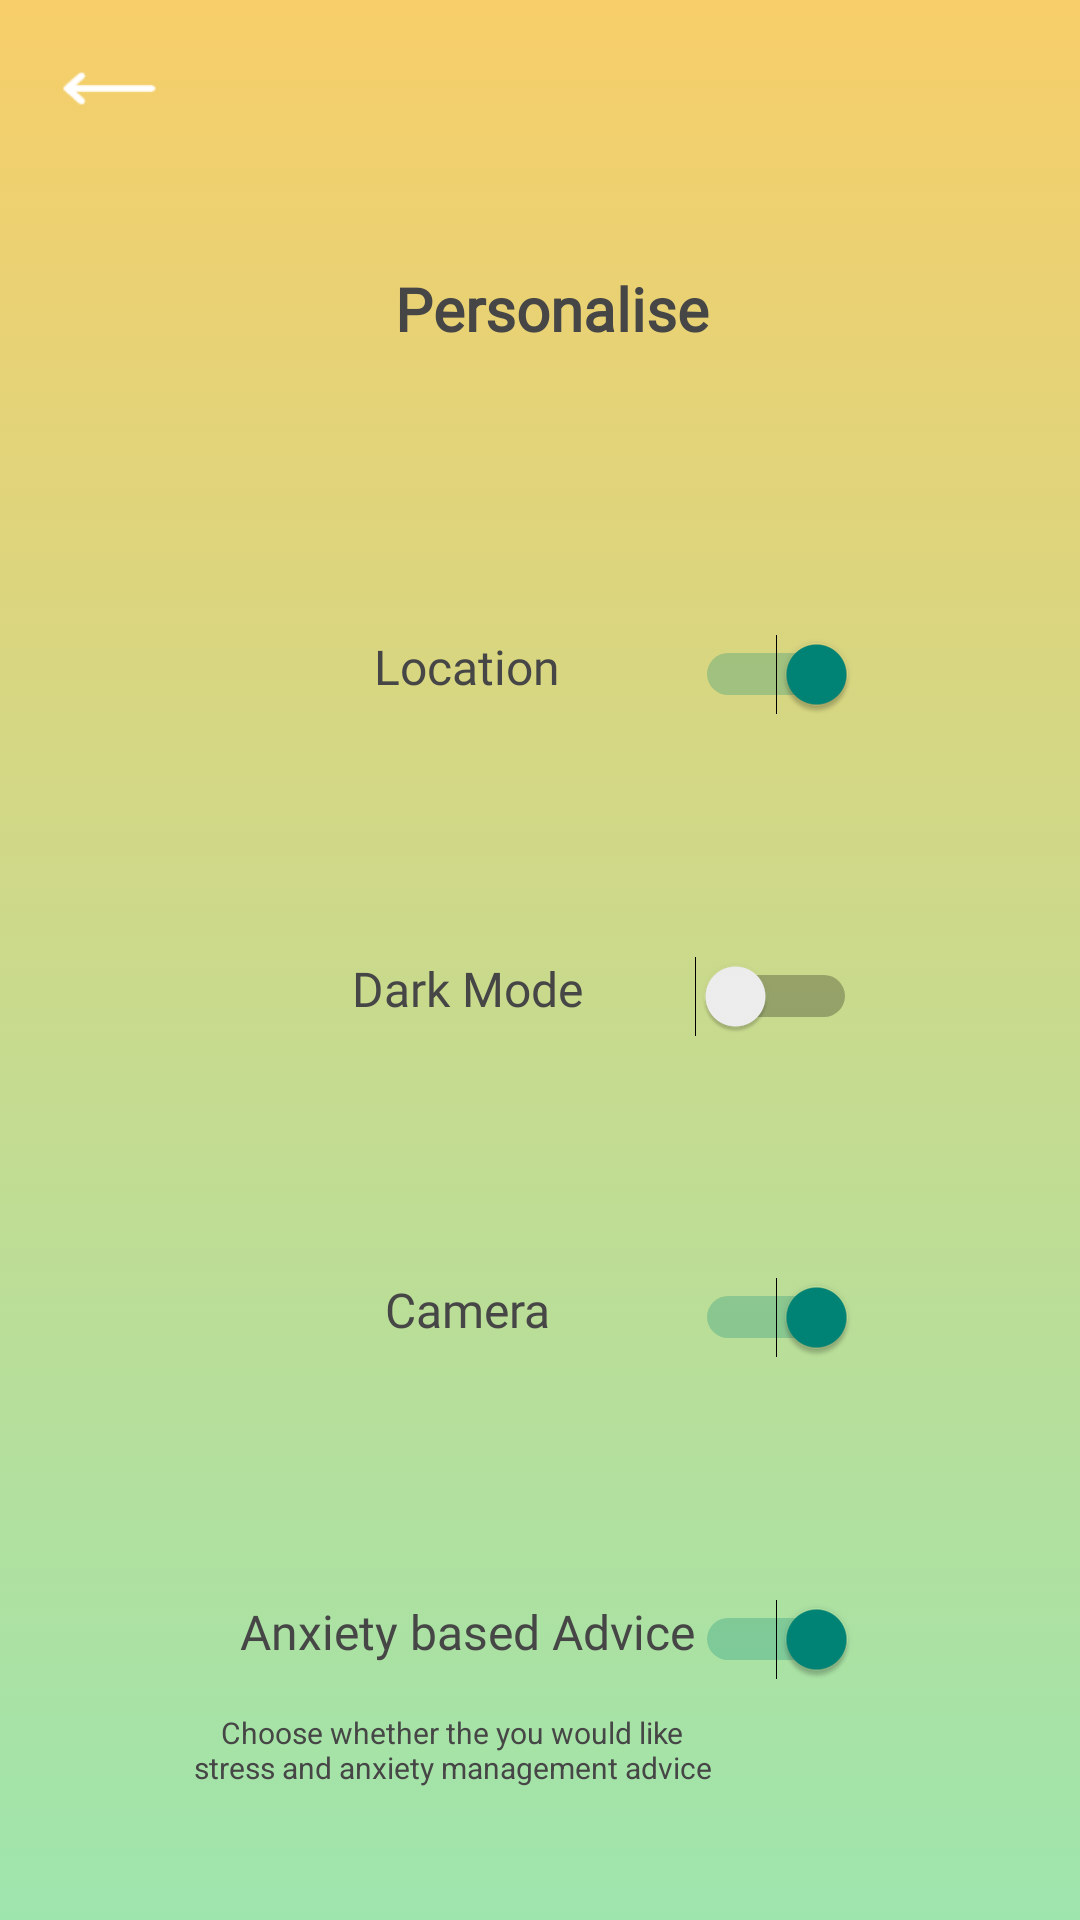

Screen size 1080*1920. Icon name, then its box in pixels as (x1, y1, x2, y2):
backarrow: (63, 72, 156, 105)
